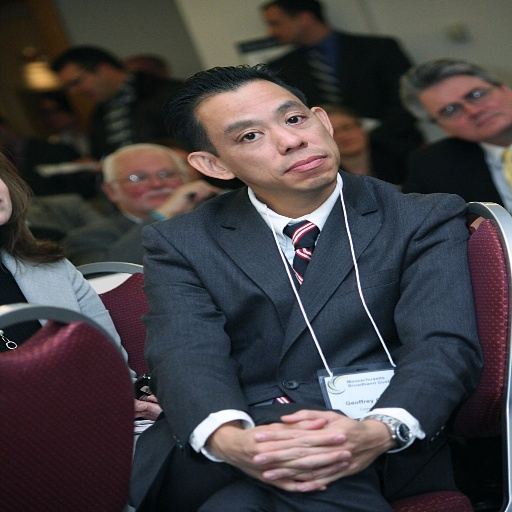hand: (250, 408, 382, 494), (160, 178, 222, 214), (132, 390, 161, 424)
